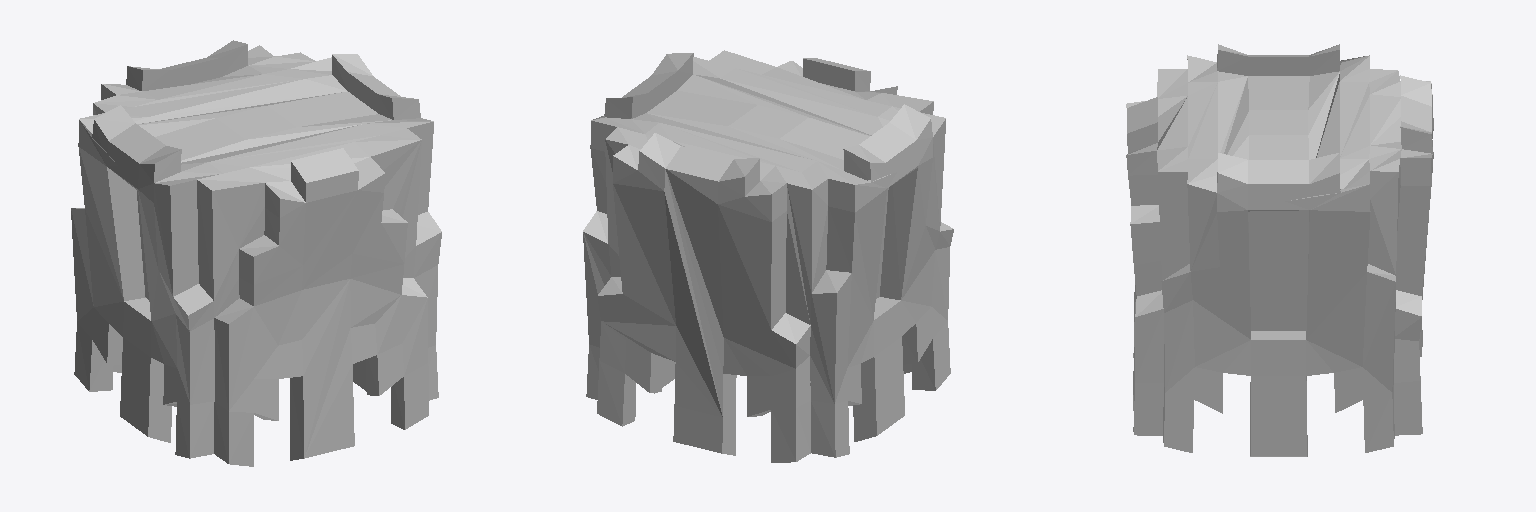
File: Mini-Bot_Shooter_LOD0-2.obj
3 views of the same model, side by side, from view 1: azimuth 30°, elevation 25°; view 2: azimuth 150°, elevation 25°; view 3: azimuth 270°, elevation 25° (orthographic).
Parts seen in each view (by area): view 1: Mini-Bot_Shooter_LOD0-2; view 2: Mini-Bot_Shooter_LOD0-2; view 3: Mini-Bot_Shooter_LOD0-2.
Part boxes in pixels (left/top/right/bottom): Mini-Bot_Shooter_LOD0-2: left=71, top=40, right=441, bottom=466; Mini-Bot_Shooter_LOD0-2: left=583, top=50, right=953, bottom=462; Mini-Bot_Shooter_LOD0-2: left=1126, top=44, right=1433, bottom=456.
Size of the model in its own units: 1.07 by 1.18 by 1.06.